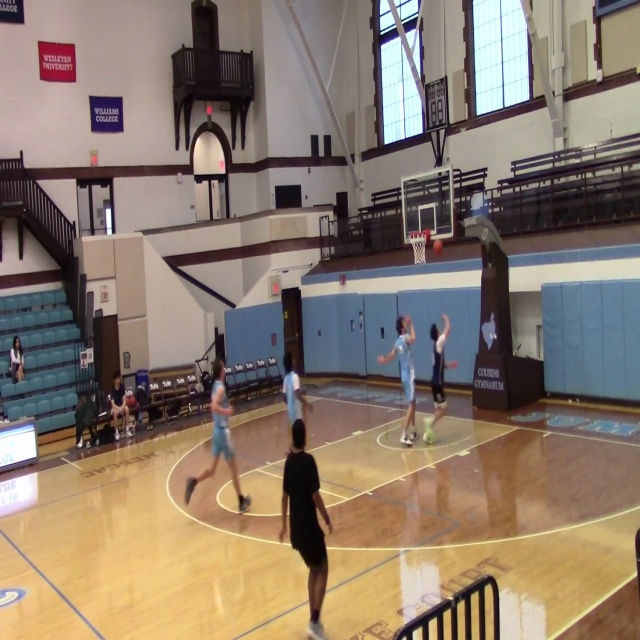Basketball: (433, 240, 443, 255), (126, 395, 137, 408), (206, 105, 212, 114)
